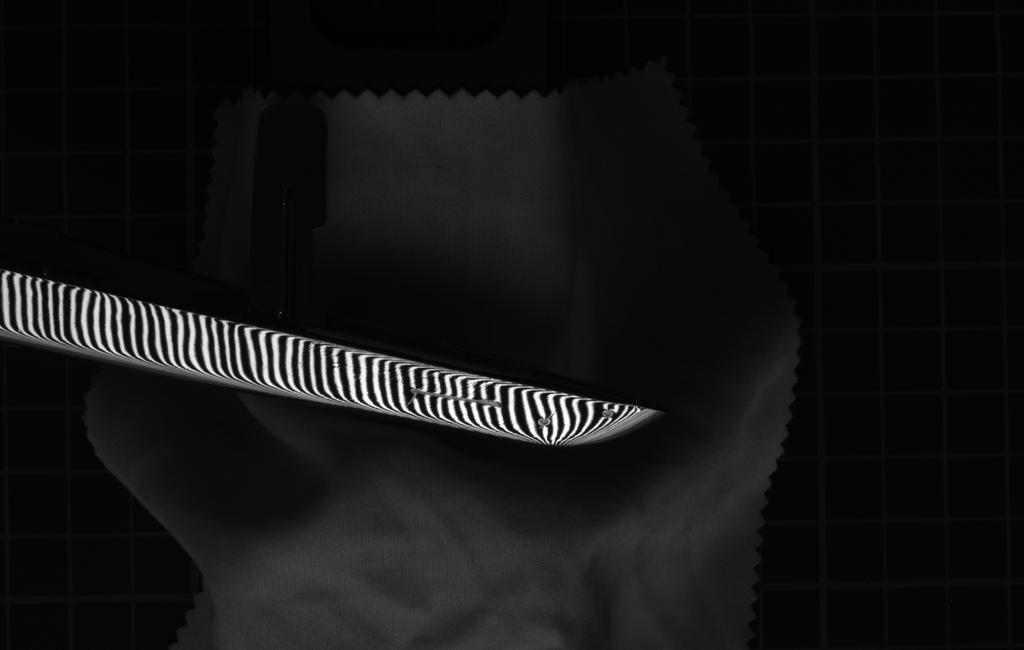Pierced: (532, 411, 560, 433), (595, 403, 623, 423)
Scratch: (399, 377, 511, 417)
